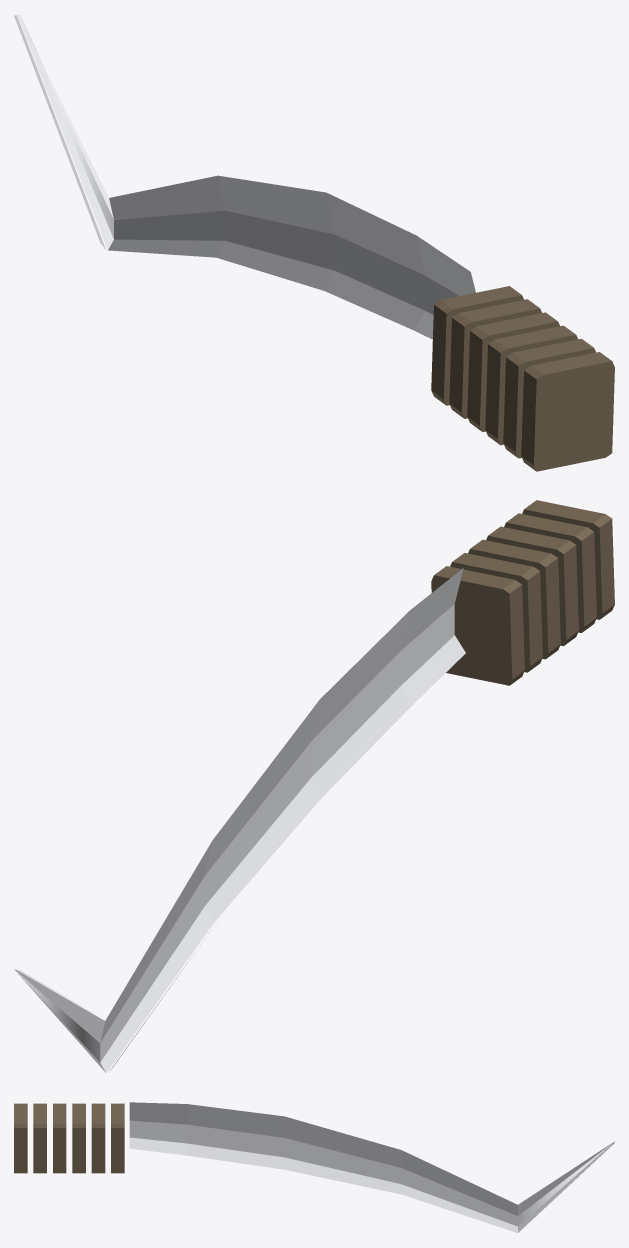
Rendered from equipment_throwing_knife.glb.
The picture shows the model from 3 angles, top to bottom: view 1: azimuth 30°, elevation 25°; view 2: azimuth 150°, elevation 25°; view 3: azimuth 270°, elevation 25°; orthographic projection. The views are drawn at different scales.
Visible parts, largest first — view 1: equipment_throwing_knife__equipment_throwing_knife, equipment_throwing_knife__grip; view 2: equipment_throwing_knife__equipment_throwing_knife, equipment_throwing_knife__grip; view 3: equipment_throwing_knife__equipment_throwing_knife, equipment_throwing_knife__grip.
Part boxes in pixels (x1,y1,x2,y2): equipment_throwing_knife__equipment_throwing_knife: (14,14,475,339); equipment_throwing_knife__grip: (431,286,614,471); equipment_throwing_knife__equipment_throwing_knife: (14,568,465,1073); equipment_throwing_knife__grip: (431,500,614,685); equipment_throwing_knife__equipment_throwing_knife: (129,1102,614,1233); equipment_throwing_knife__grip: (14,1103,124,1173).
Size of the model in its own units: 0.026 by 0.074 by 0.3095.
